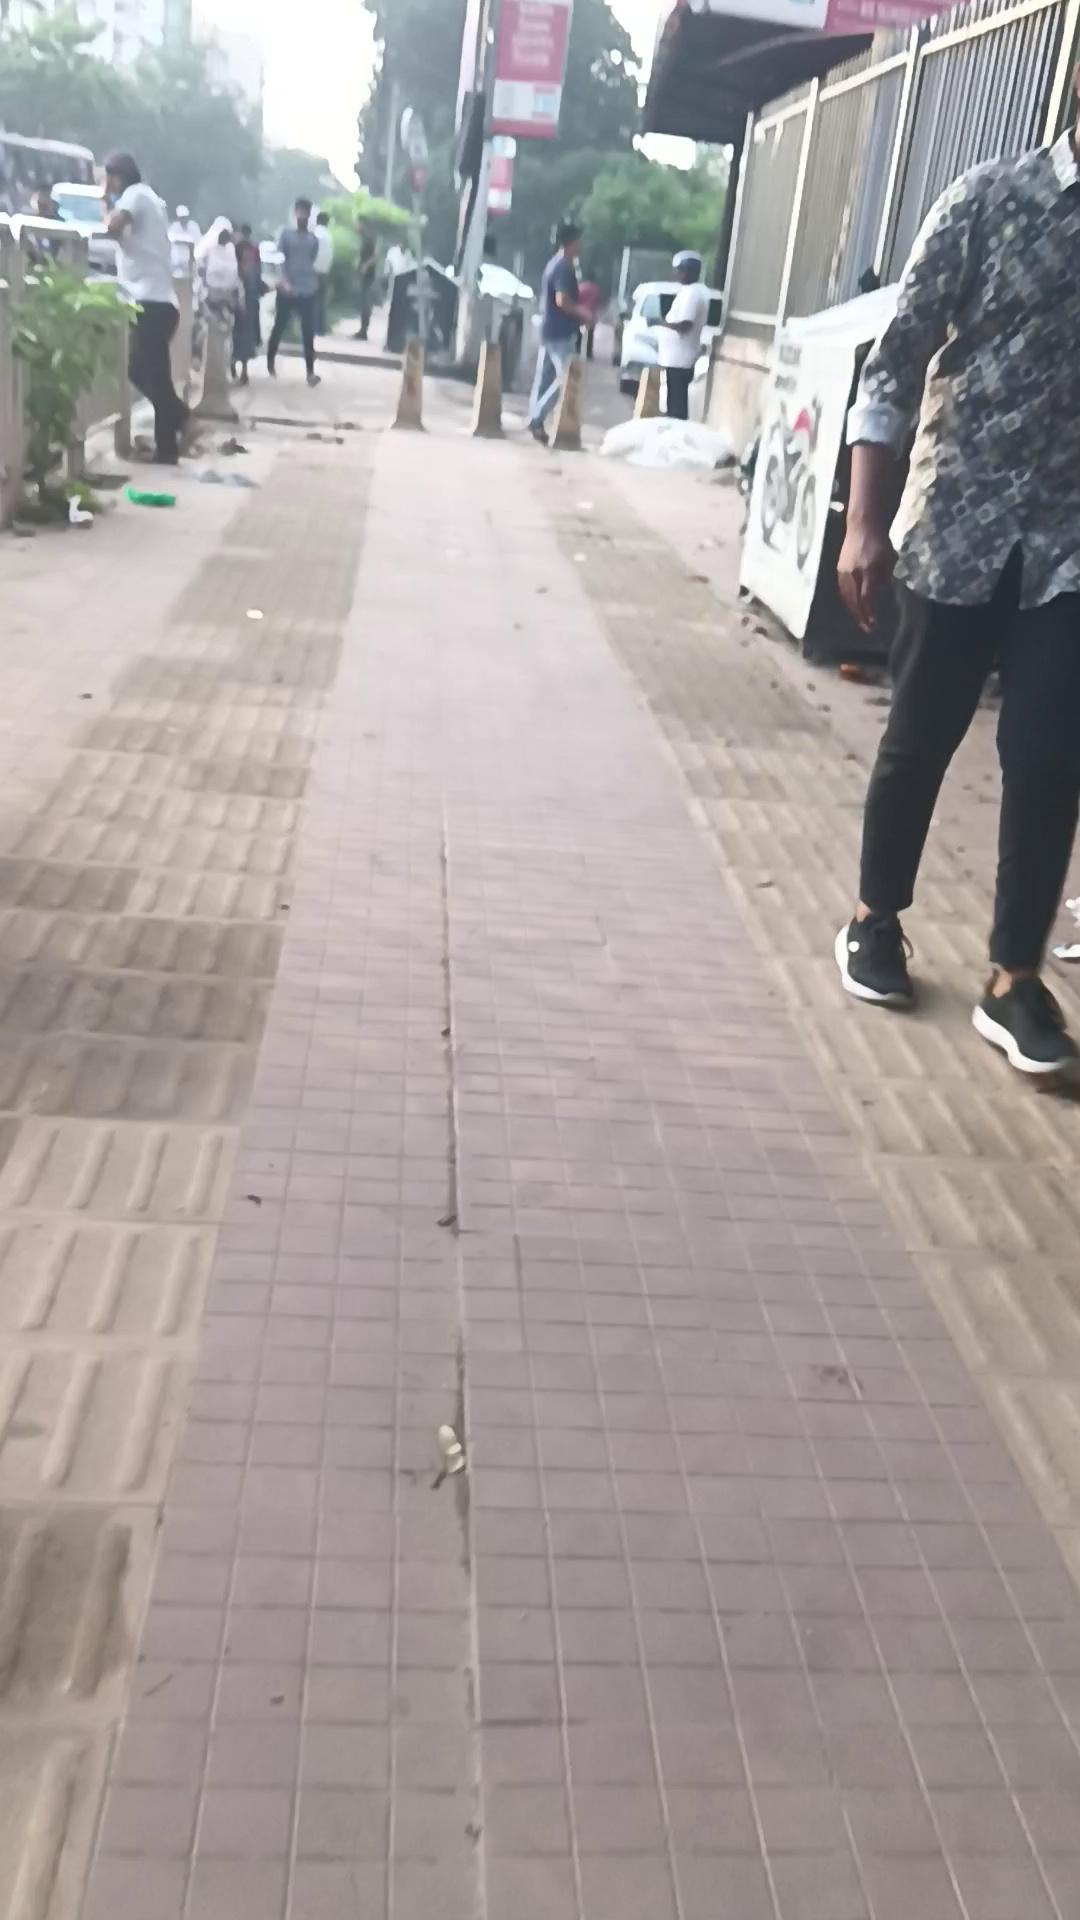Muddy road: (831, 55, 1079, 1076), (100, 152, 189, 464), (526, 222, 593, 444), (633, 249, 711, 419), (265, 196, 324, 386), (351, 214, 378, 340), (311, 211, 334, 336)
Pole: (3, 247, 145, 525)
Potted-plant: (3, 295, 1077, 1915)
Rickshaw: (190, 313, 237, 422), (389, 334, 429, 433), (469, 338, 506, 438), (547, 353, 585, 450), (632, 363, 661, 419)
